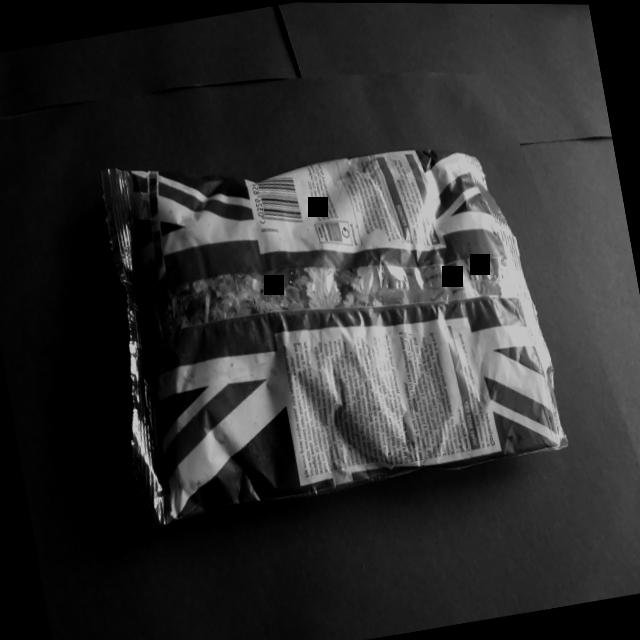Cilantro: (67, 86, 570, 548)
